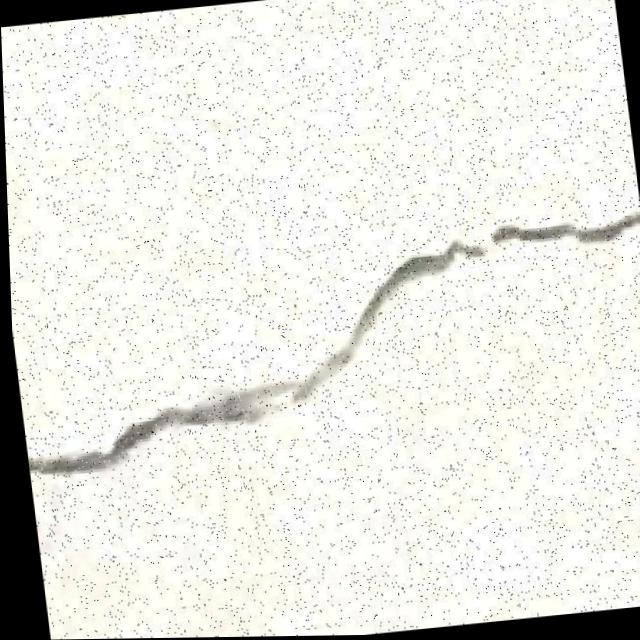Crack: (6, 201, 640, 493)
